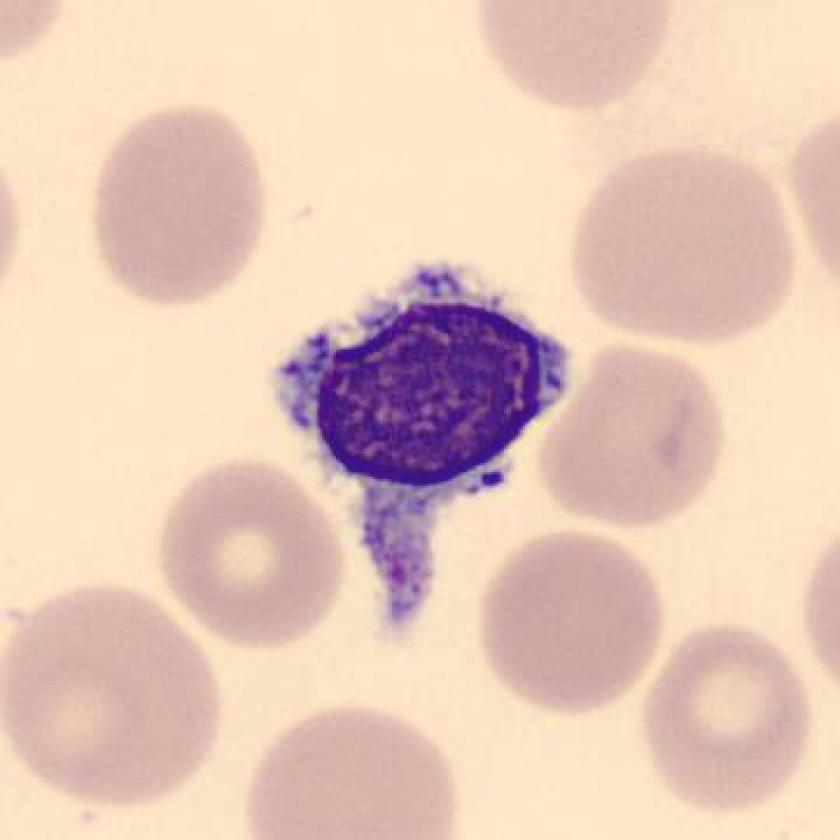lymphocyte: (253, 237, 594, 658)
